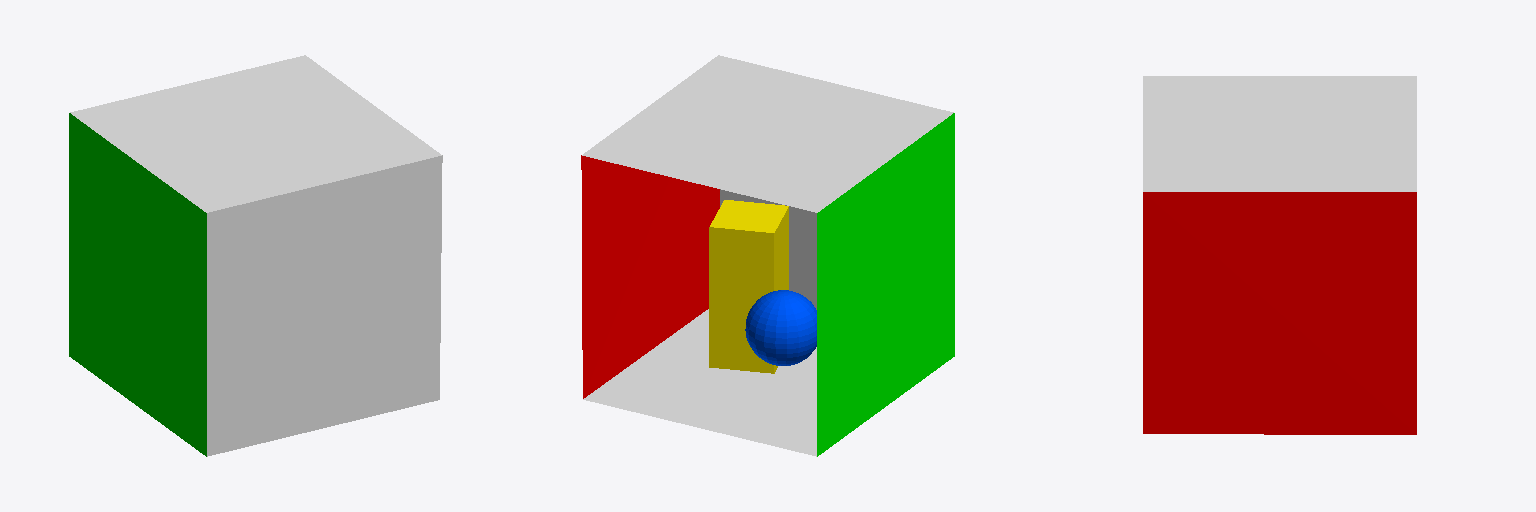
The picture shows the model from 3 angles: view 1: azimuth 30°, elevation 25°; view 2: azimuth 150°, elevation 25°; view 3: azimuth 270°, elevation 25°; orthographic projection.
Parts seen in each view (by area): view 1: cornell_box:Mesh polySurface6, cornell_box:Mesh polySurface7, cornell_box:Mesh polySurface5; view 2: cornell_box:Mesh polySurface7, cornell_box:Mesh polySurface5, cornell_box:Mesh polySurface8, polySurface1 cornell_box:Mesh, pCube1, pSphere1, cornell_box:Mesh polySurface6; view 3: cornell_box:Mesh polySurface8, cornell_box:Mesh polySurface5.
Boxes of the visible parts, x1=… form: cornell_box:Mesh polySurface6: x1=207, y1=155, x2=442, y2=456; cornell_box:Mesh polySurface7: x1=69, y1=113, x2=206, y2=456; cornell_box:Mesh polySurface5: x1=70, y1=55, x2=441, y2=212; cornell_box:Mesh polySurface7: x1=817, y1=113, x2=954, y2=456; cornell_box:Mesh polySurface5: x1=582, y1=55, x2=953, y2=212; cornell_box:Mesh polySurface8: x1=581, y1=155, x2=719, y2=398; polySurface1 cornell_box:Mesh: x1=583, y1=309, x2=816, y2=456; pCube1: x1=709, y1=200, x2=788, y2=373; pSphere1: x1=745, y1=290, x2=816, y2=365; cornell_box:Mesh polySurface6: x1=720, y1=189, x2=816, y2=309; cornell_box:Mesh polySurface8: x1=1143, y1=192, x2=1416, y2=434; cornell_box:Mesh polySurface5: x1=1143, y1=76, x2=1416, y2=191.
Size of the model in its own units: 556 by 549 by 559.